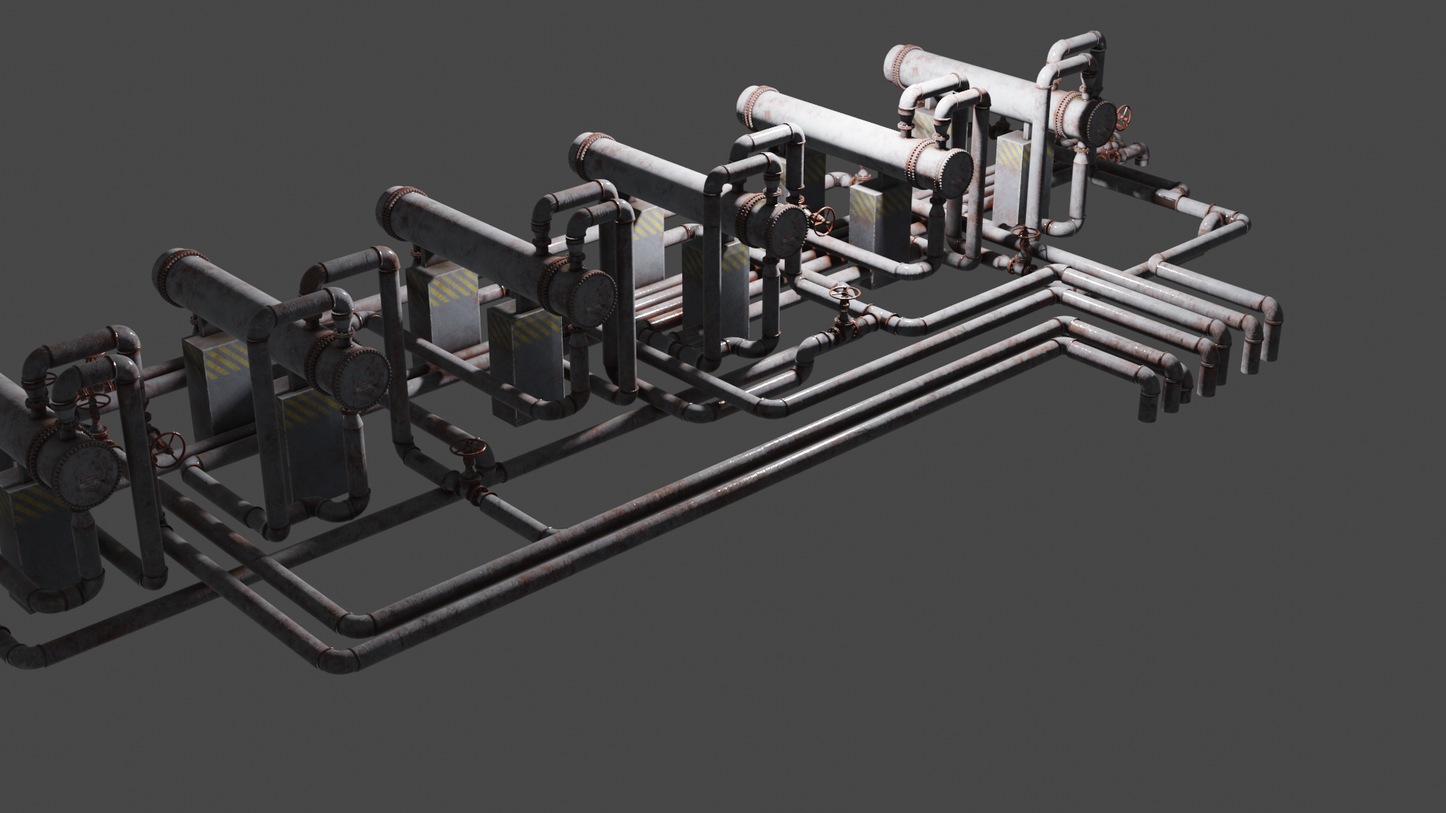HE_1: (0, 369, 120, 515)
HE_2: (151, 249, 391, 414)
HE_3: (376, 182, 614, 334)
HE_4: (567, 127, 805, 255)
HE_5: (733, 81, 976, 198)
HE_6: (879, 44, 1118, 149)
